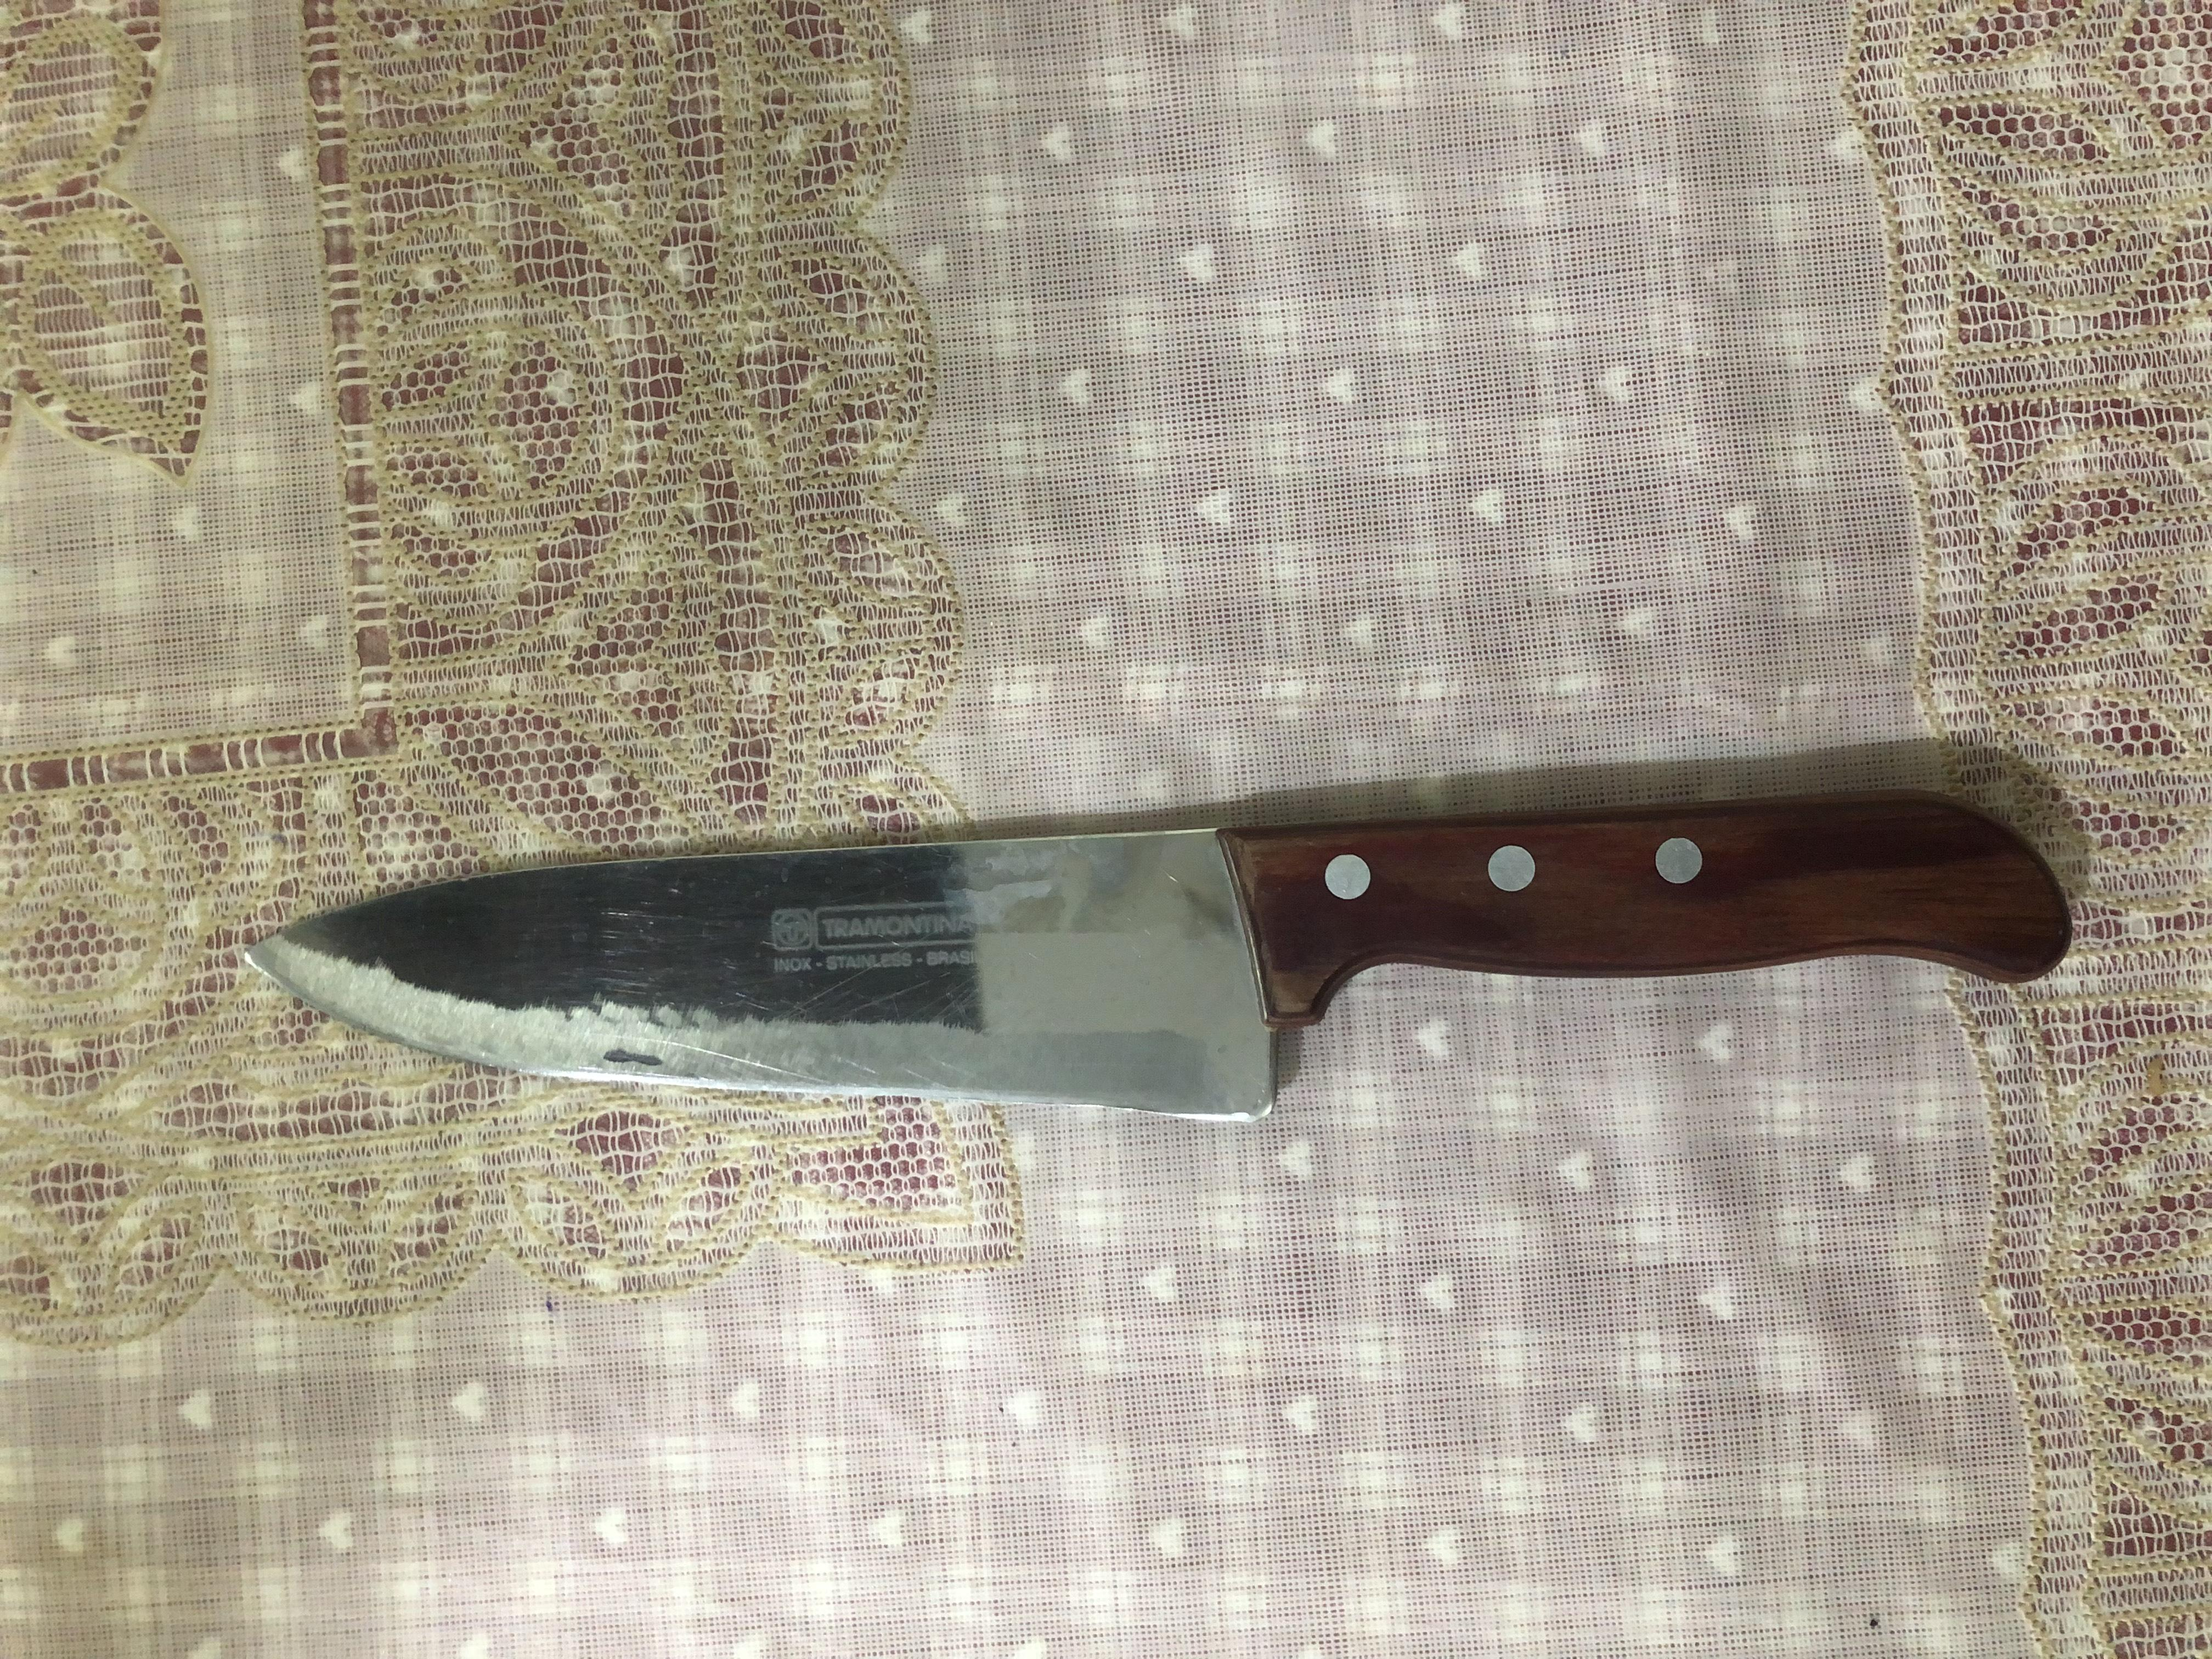weapon: (705, 178, 1165, 1560)
